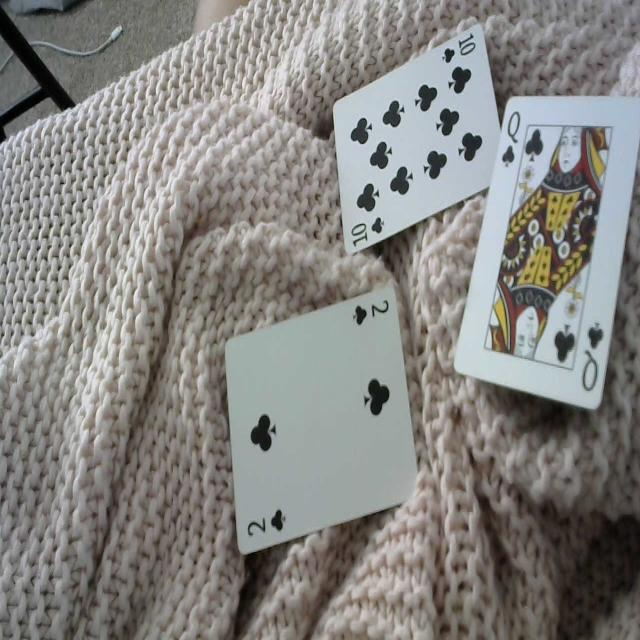10C: (441, 26, 479, 66), (347, 216, 388, 248)
2C: (242, 504, 288, 545), (351, 295, 393, 326)
QC: (578, 311, 606, 398), (498, 103, 523, 173)
